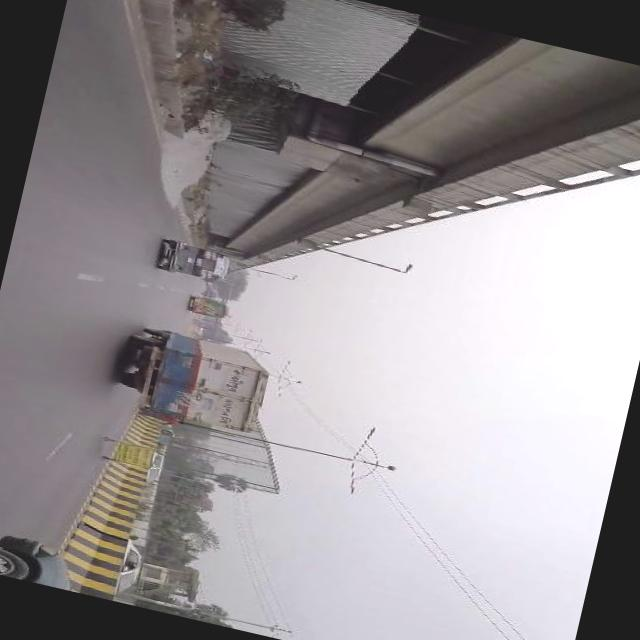bus: (186, 293, 231, 319)
car: (115, 536, 147, 596)
motorcycle: (154, 236, 233, 286), (160, 428, 176, 445)
truck: (111, 319, 276, 436), (144, 450, 167, 486)
